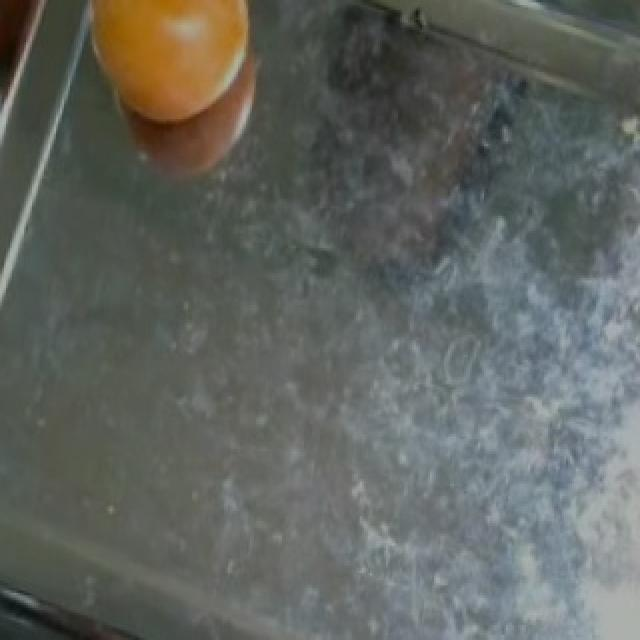Fruit: (64, 0, 284, 146)
